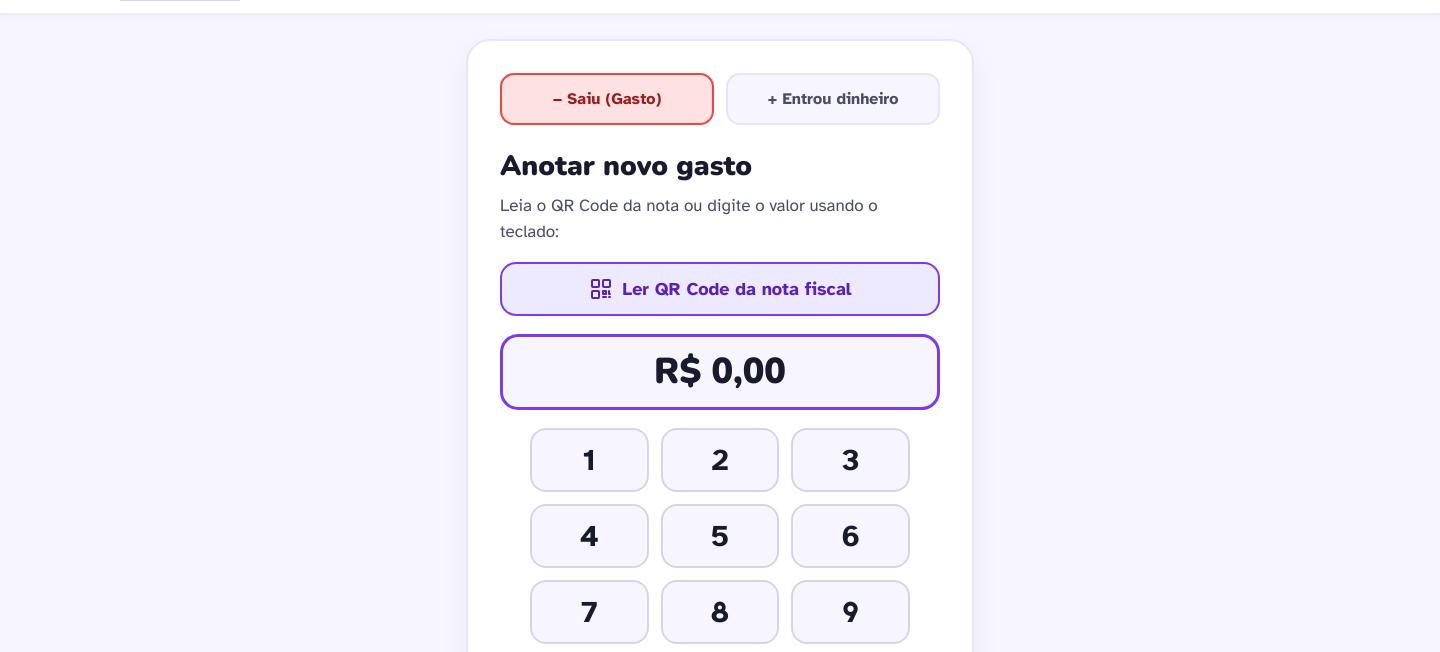
it: Página AnotarGasto › mostra a mensagem do servidor quando ele recusa o valor
Click the button "9" at (851,612), box [791,580,910,644]
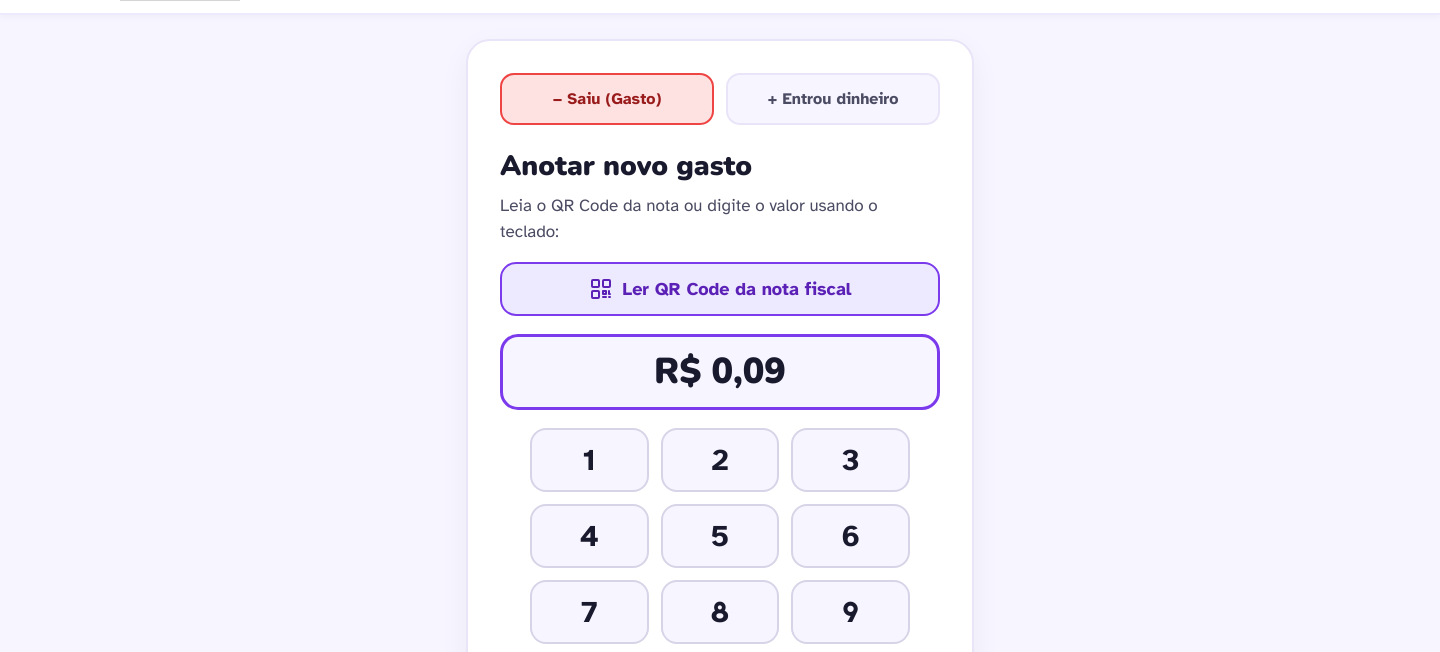
Click the button "9" at (851,612), box [791,580,910,644]
(page scrolled)
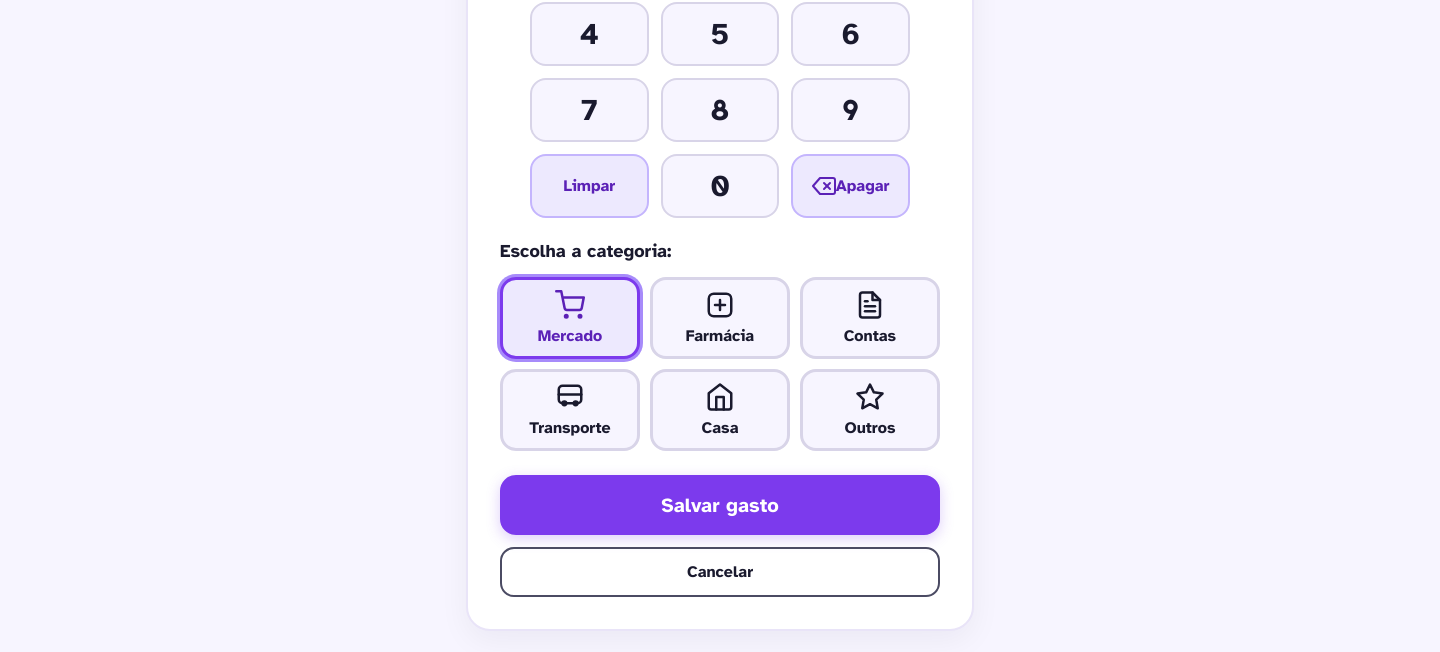
Click the button "Salvar gasto" at (720,505), box [500,475,940,535]
(page scrolled)
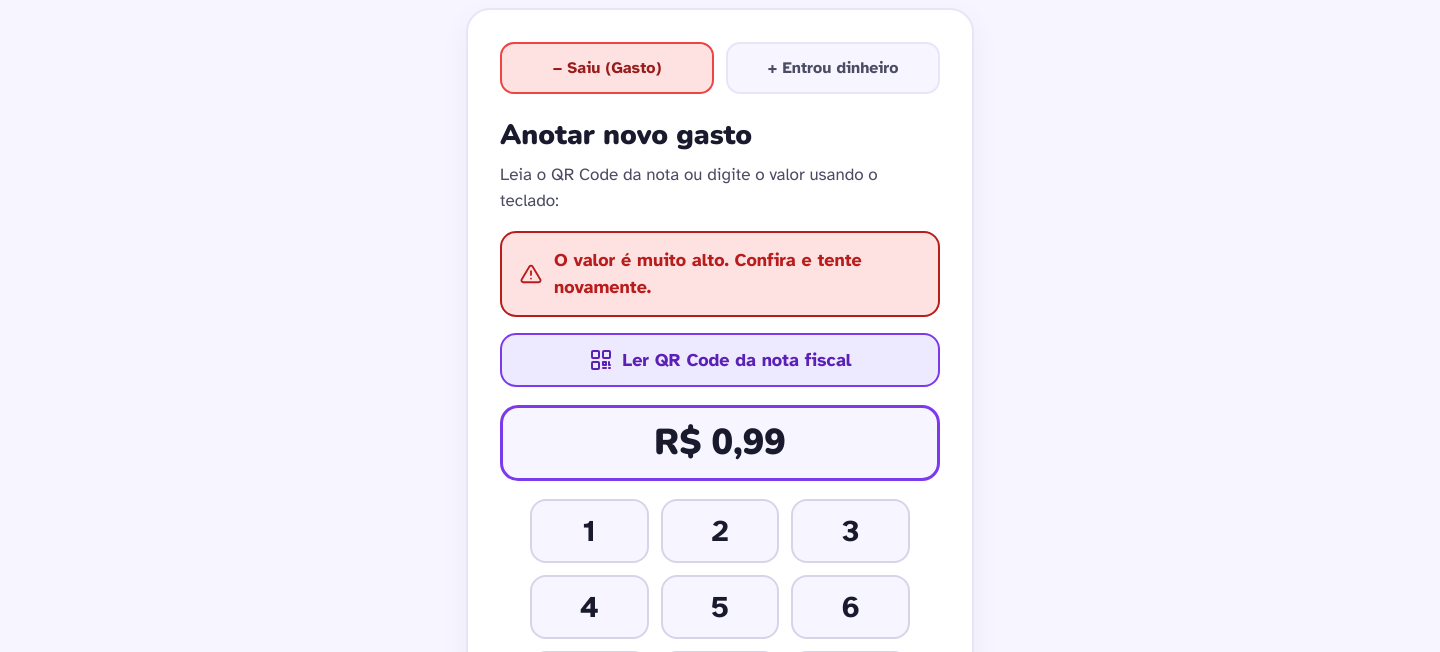
expect the text "O valor é muito alto. Confira e tente novamente." is shown: met, box [554,249,862,298]
